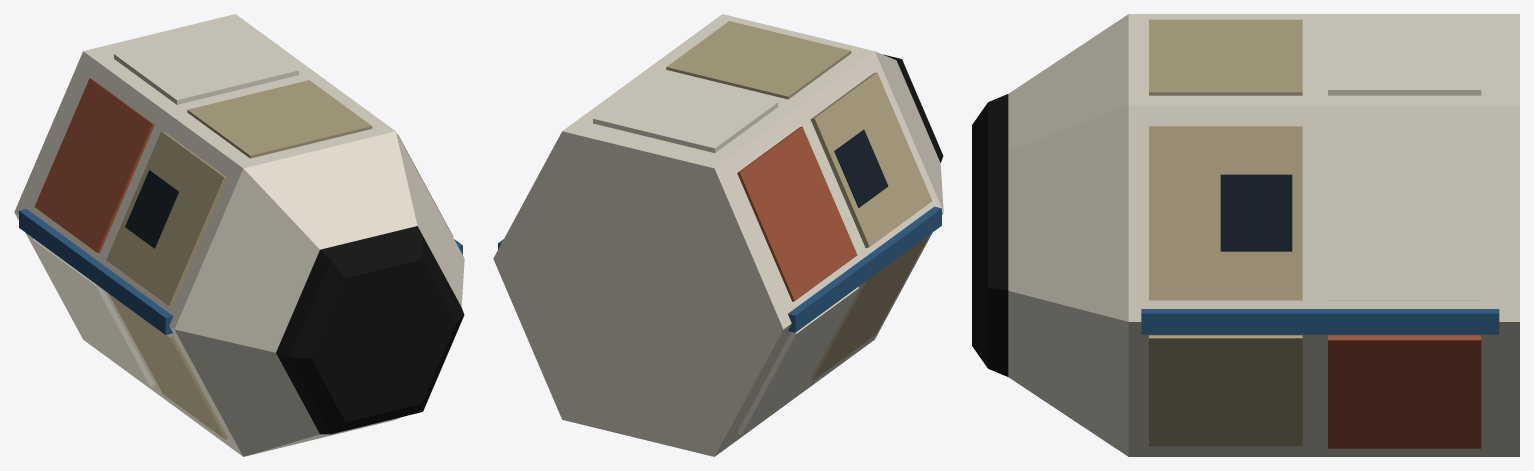
File: pod4_hull.obj
3 views of the same model, side by side, from view 1: azimuth 30°, elevation 25°; view 2: azimuth 150°, elevation 25°; view 3: azimuth 270°, elevation 25° (orthographic). The views are drawn at different scales.
Parts seen in each view (by area): view 1: pod4_hull; view 2: pod4_hull; view 3: pod4_hull.
Boxes of the visible parts, x1,y1,x2,y2 form: pod4_hull: (14,14,464,456); pod4_hull: (493,14,943,456); pod4_hull: (972,14,1519,456).
Bounding box in the file's own units: 1.64 × 1.57 × 2.14.
